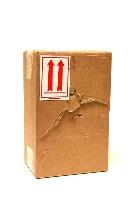damaged package: (39, 86, 108, 142)
undamaged: (19, 49, 118, 179)
